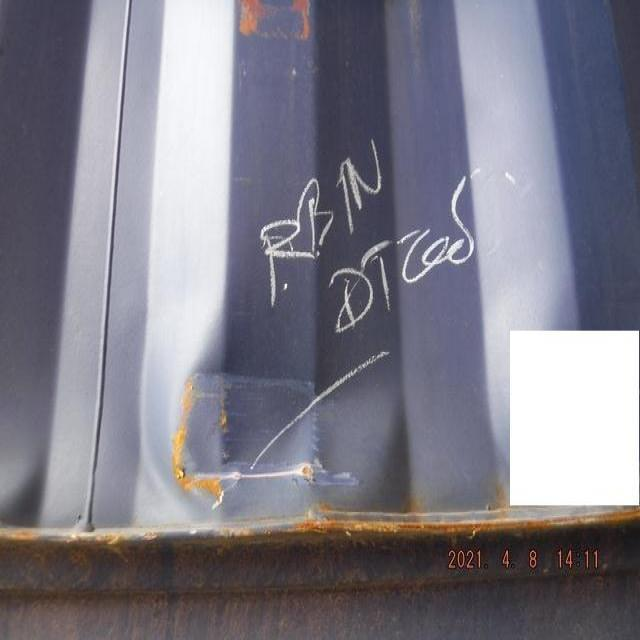Minor-Dent: (121, 309, 430, 507)
